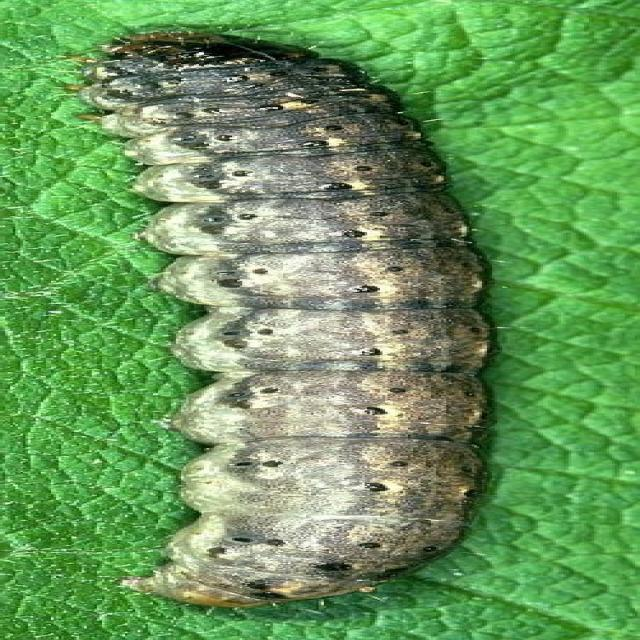black cutworm: (97, 35, 502, 617)
